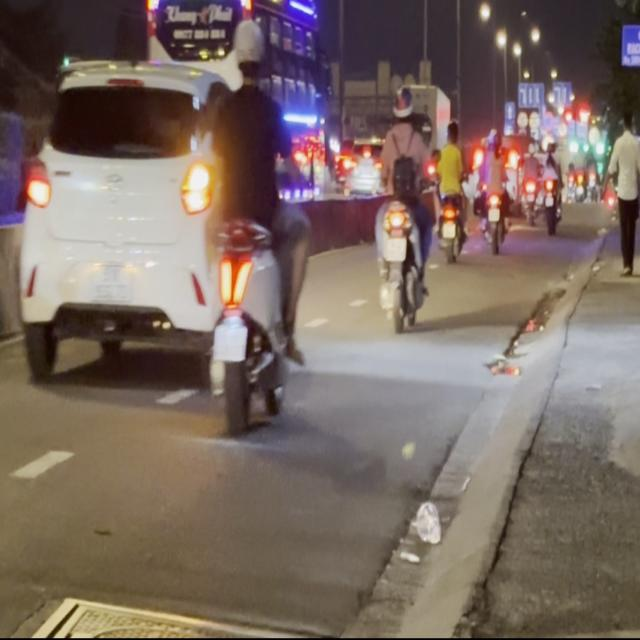helmet: (230, 17, 266, 86)
licenseplate: (182, 8, 310, 436)
nohelmet: (212, 322, 245, 360)
